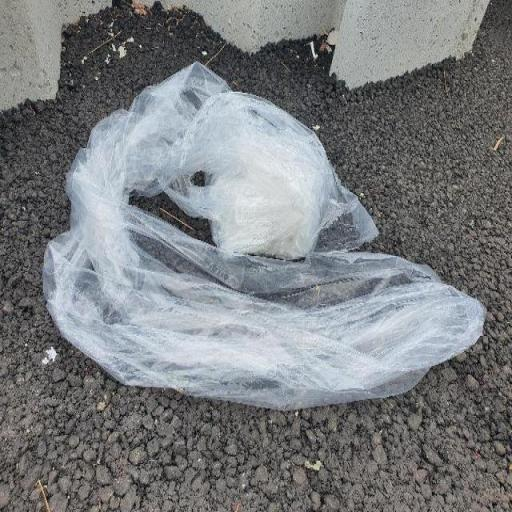plastic-bag: (38, 56, 492, 414)
